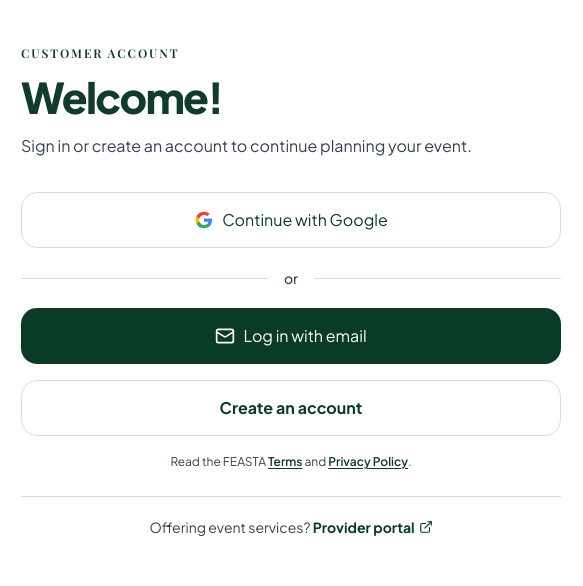
login accessibility › keeps Google invalid credentials distinct on the standalone login page
What coordinates should you click on to do the following:
click the button "Continue with Google"
I would click on:
 (291, 220)
Its box is [21,192,561,248].
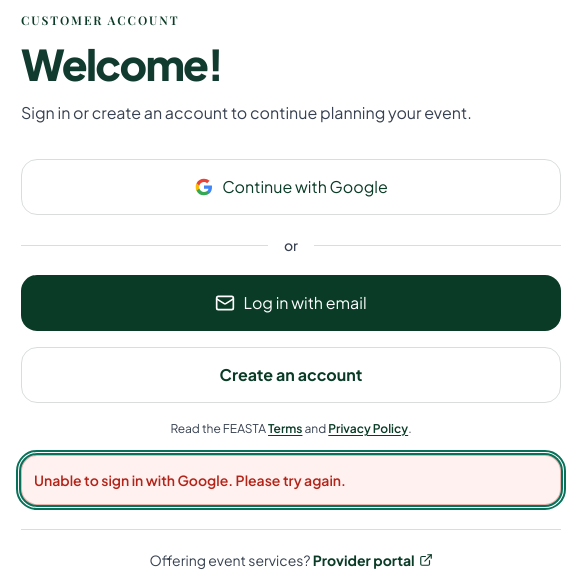
Expected: the button "Continue with Google" is enabled, [21,159,561,215]
Now the message reads "Unable to sign in with Google. Please try again.", box [34,471,346,489]
